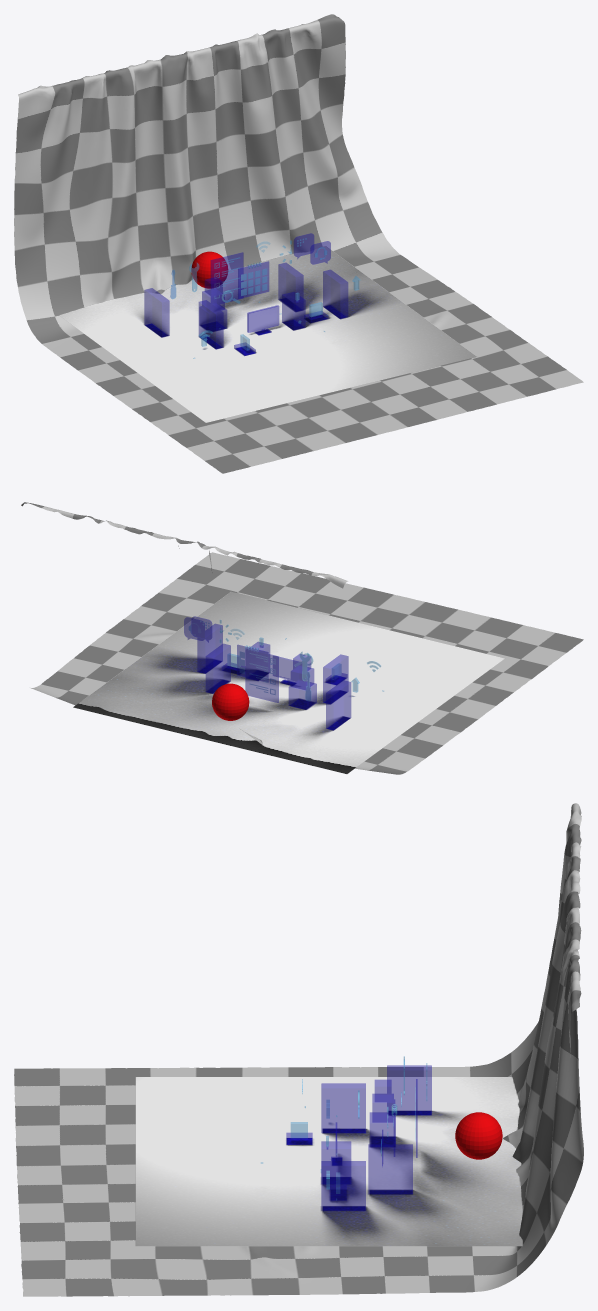
File: material_saperated.glb
3 renders of one model, top to bottom at view 1: azimuth 30°, elevation 25°; view 2: azimuth 150°, elevation 25°; view 3: azimuth 270°, elevation 25°, orthographic. The views are drawn at different scales.
Parts seen in each view (by area): view 1: Cloth Backdrop.002, Plane, Cube.093, Sphere, Cube.032, Cube.098, Cube.031, Cube.033, Cube.092, box.001, Cube.077, Cube.097; view 2: Plane, Cloth Backdrop.002, Cube.093, Sphere, Cube.032, Cube.033, Cube.031, Cube.098, Cube.092, Cube.097, Cube.077, Cube.096 (+2 smaller); view 3: Cloth Backdrop.002, Plane, Cube.098, Cube.031, Cube.033, Cube.032, Sphere, box.001, Cube.097.
Boxes of the visible parts, x1,y1,x2,y2 form: Cloth Backdrop.002: (14,14,583,473); Plane: (59,246,476,422); Cube.093: (211,252,243,303); Sphere: (191,251,228,288); Cube.032: (144,288,169,337); Cube.098: (323,270,347,318); Cube.031: (278,263,303,311); Cube.033: (199,300,223,349); Cube.092: (238,261,268,298); box.001: (282,292,305,330); Cube.077: (247,305,278,332); Cube.097: (199,303,226,331); Plane: (73,591,504,774); Cloth Backdrop.002: (21,502,583,774); Cube.093: (245,648,278,702); Sphere: (212,683,249,720); Cube.032: (326,680,350,730); Cube.033: (323,654,348,702); Cube.031: (206,644,230,693); Cube.098: (197,624,222,673); Cube.092: (237,645,268,681); Cube.097: (289,680,316,709); Cube.077: (273,656,301,681); Cube.096: (291,665,313,689); Cloth Backdrop.002: (14,803,583,1296); Plane: (135,1077,522,1246); Cube.098: (321,1161,365,1210); Cube.031: (368,1144,412,1193); Cube.033: (321,1083,365,1132); Cube.032: (387,1065,431,1114); Sphere: (455,1112,502,1159); box.001: (321,1141,350,1183); Cube.097: (370,1112,395,1146).
Bounding box in the file's own units: 36.24 × 20.52 × 37.98.
Materials: 6 (2 with a texture image).
